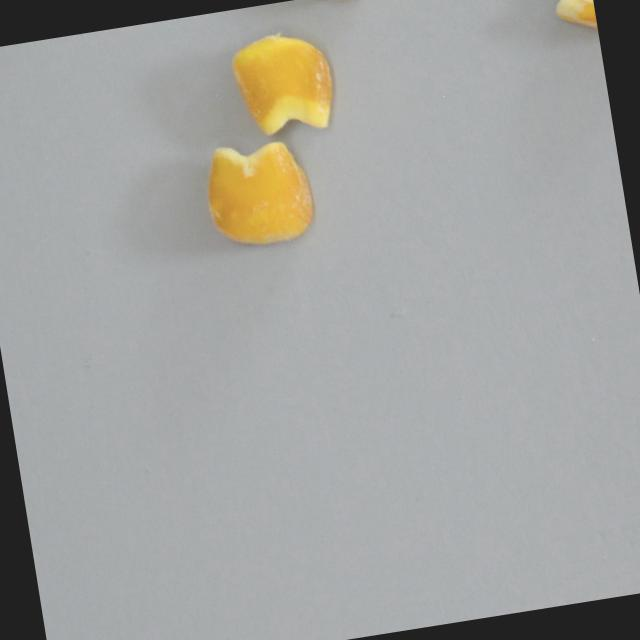dañado: (194, 127, 325, 257), (222, 20, 344, 146), (547, 0, 600, 50)
